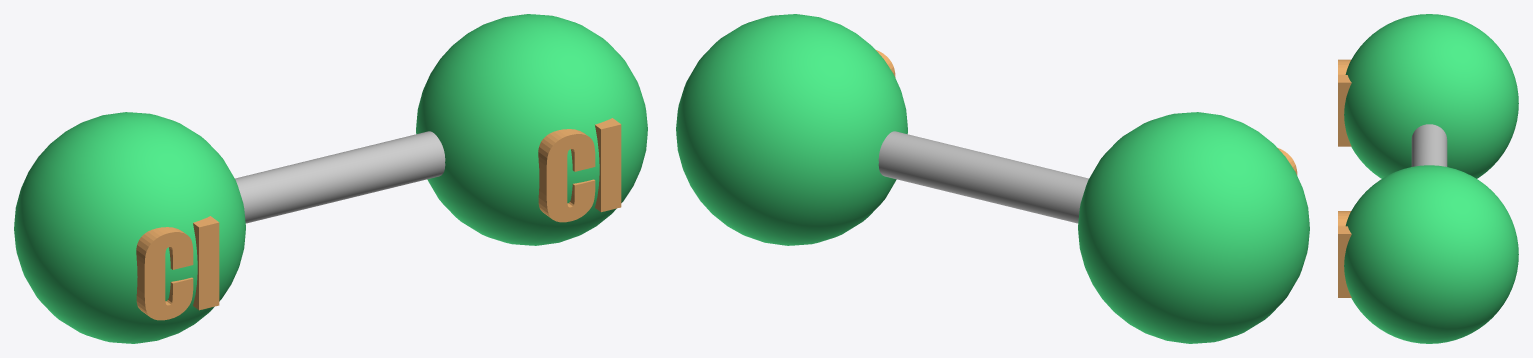
File: asset.glb
The picture shows the model from 3 angles, left to right: view 1: azimuth 30°, elevation 25°; view 2: azimuth 150°, elevation 25°; view 3: azimuth 270°, elevation 25°; orthographic projection. The views are drawn at different scales.
Visible parts, largest first — view 1: 3DGeom-3, 3DGeom-4, 3DGeom-5; view 2: 3DGeom-3, 3DGeom-5; view 3: 3DGeom-3, 3DGeom-4, 3DGeom-5.
Part boxes in pixels (<box>): 3DGeom-3: <box>14,14,647,343</box>; 3DGeom-4: <box>136,118,621,320</box>; 3DGeom-5: <box>235,131,445,223</box>; 3DGeom-3: <box>676,14,1309,343</box>; 3DGeom-5: <box>878,131,1088,223</box>; 3DGeom-3: <box>1344,14,1518,343</box>; 3DGeom-4: <box>1338,59,1351,297</box>; 3DGeom-5: <box>1411,124,1447,166</box>.
Bounding box in the file's own units: 0.6 × 0.2 × 0.202.
